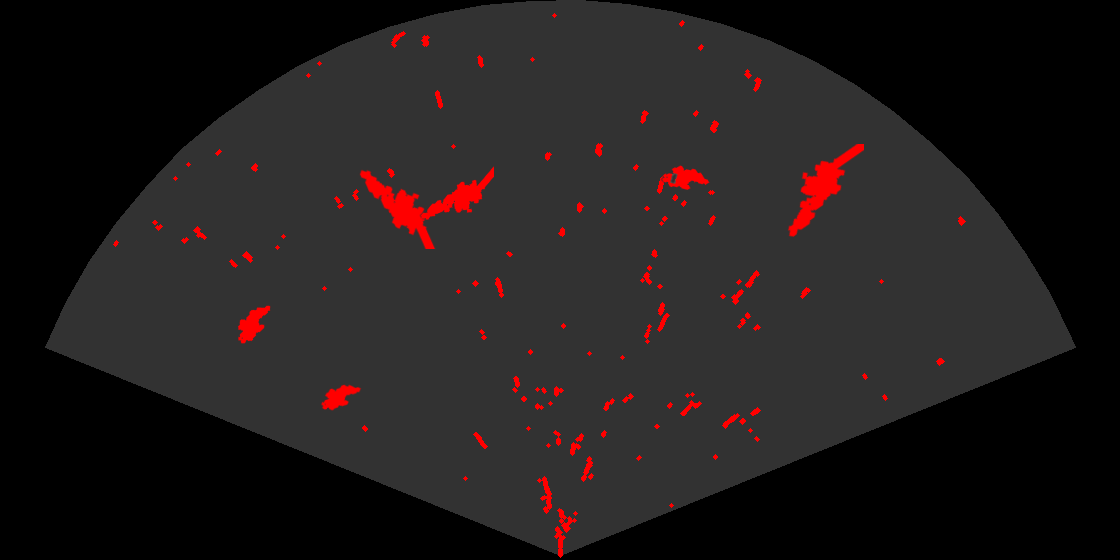AUV: (236, 304, 272, 345), (660, 164, 711, 191), (319, 383, 363, 412)
frogman: (786, 144, 864, 239), (358, 168, 437, 249), (419, 165, 494, 221)
